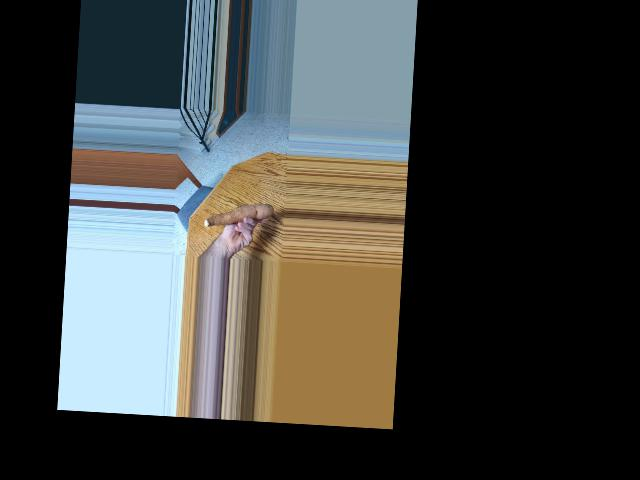sweet_potato: (202, 197, 272, 233)
